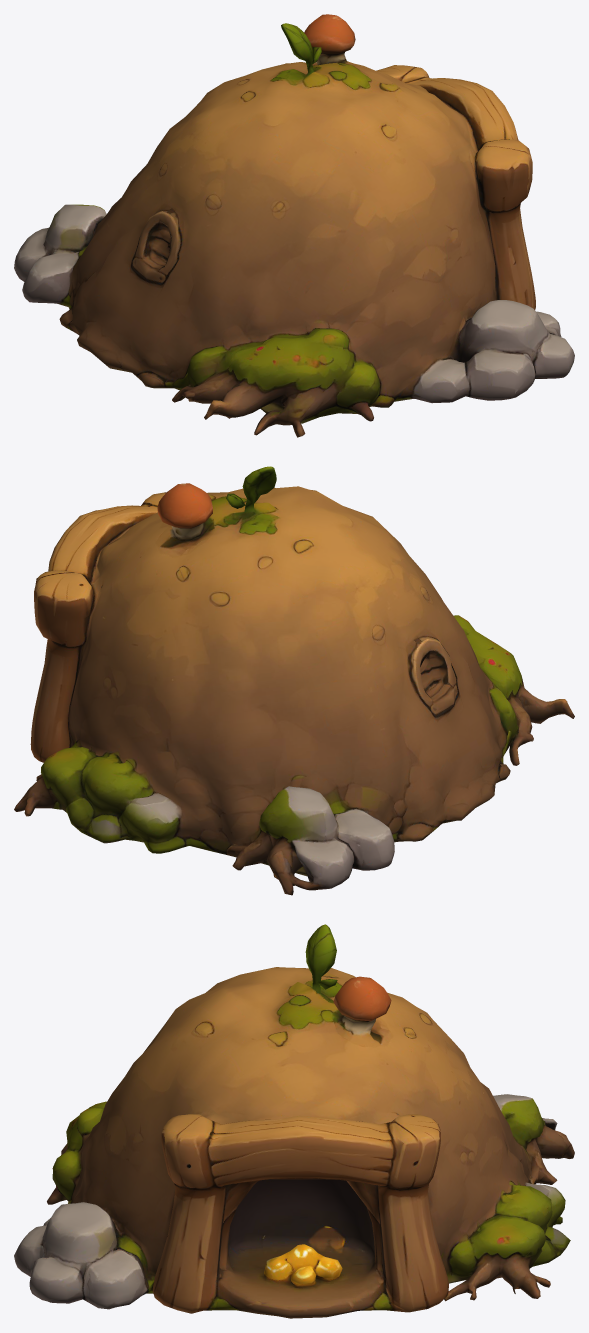
Rendered from nat-minerbase-lv1-4500.fbx.
3 renders of one model, top to bottom at view 1: azimuth 30°, elevation 25°; view 2: azimuth 150°, elevation 25°; view 3: azimuth 270°, elevation 25°, orthographic. The views are drawn at different scales.
Visible parts, largest first — view 1: tripo_node_fecab958; view 2: tripo_node_fecab958; view 3: tripo_node_fecab958.
Boxes of the visible parts, x1=… form: tripo_node_fecab958: x1=14, y1=14, x2=574, y2=437; tripo_node_fecab958: x1=14, y1=466, x2=574, y2=895; tripo_node_fecab958: x1=14, y1=924, x2=574, y2=1318.
Bounding box in the file's own units: 0.8581 × 0.5857 × 0.9765.
